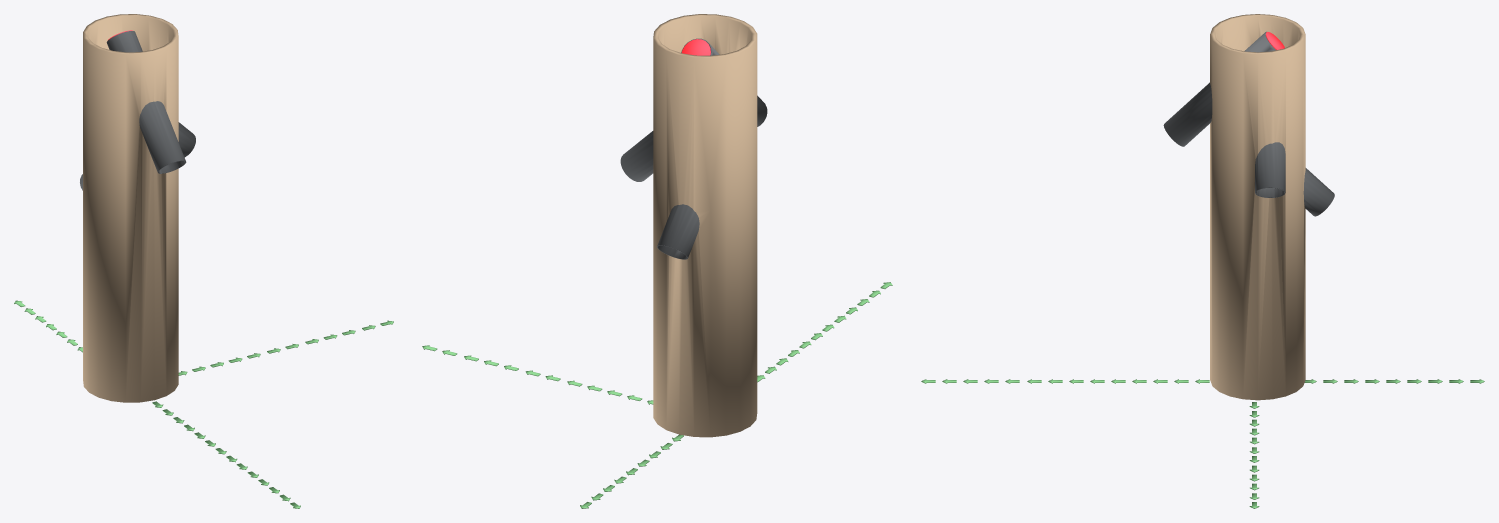
Rendered from tinker15.gltf.
3 views of the same model, side by side, from view 1: azimuth 30°, elevation 25°; view 2: azimuth 150°, elevation 25°; view 3: azimuth 270°, elevation 25° (orthographic). The views are drawn at different scales.
Parts seen in each view (by area): view 1: obj_0.003; view 2: obj_0.003; view 3: obj_0.003.
Part boxes in pixels (bbox=[...]): obj_0.003: bbox=[14, 14, 393, 508]; obj_0.003: bbox=[422, 14, 892, 508]; obj_0.003: bbox=[921, 14, 1484, 508].
Bounding box in the file's own units: 364 × 403 × 590.
